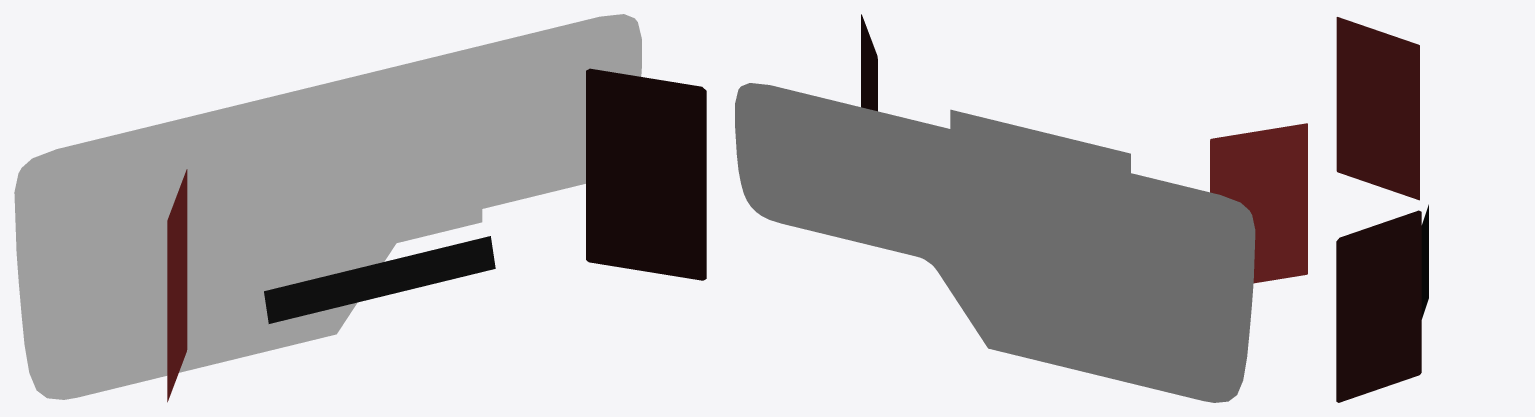
Rendered from W_AD_MICE_Mobilestore_Display_001_L1.fbx.
The picture shows the model from 3 angles, left to right: view 1: azimuth 30°, elevation 25°; view 2: azimuth 150°, elevation 25°; view 3: azimuth 270°, elevation 25°; orthographic projection. The views are drawn at different scales.
Parts seen in each view (by area): view 1: W_AD_MICE_Mobilestore_Display_001_L1; view 2: W_AD_MICE_Mobilestore_Display_001_L1; view 3: W_AD_MICE_Mobilestore_Display_001_L1.
Part boxes in pixels (x1,y1,x2,y2): W_AD_MICE_Mobilestore_Display_001_L1: [14, 14, 706, 402]; W_AD_MICE_Mobilestore_Display_001_L1: [735, 14, 1307, 402]; W_AD_MICE_Mobilestore_Display_001_L1: [1336, 17, 1428, 402].
Size of the model in its own units: 5.96 by 2.38 by 1.78.
